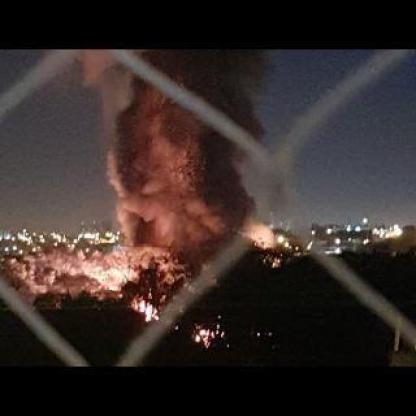fire: (81, 258, 135, 292), (127, 296, 162, 322), (190, 325, 216, 347)
